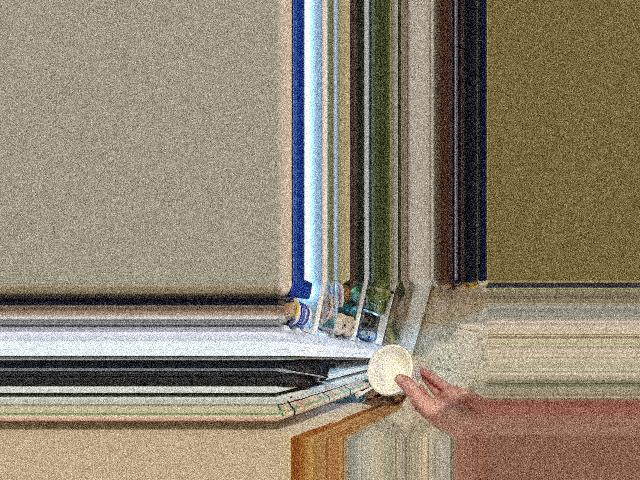cotage: (361, 347, 424, 397)
